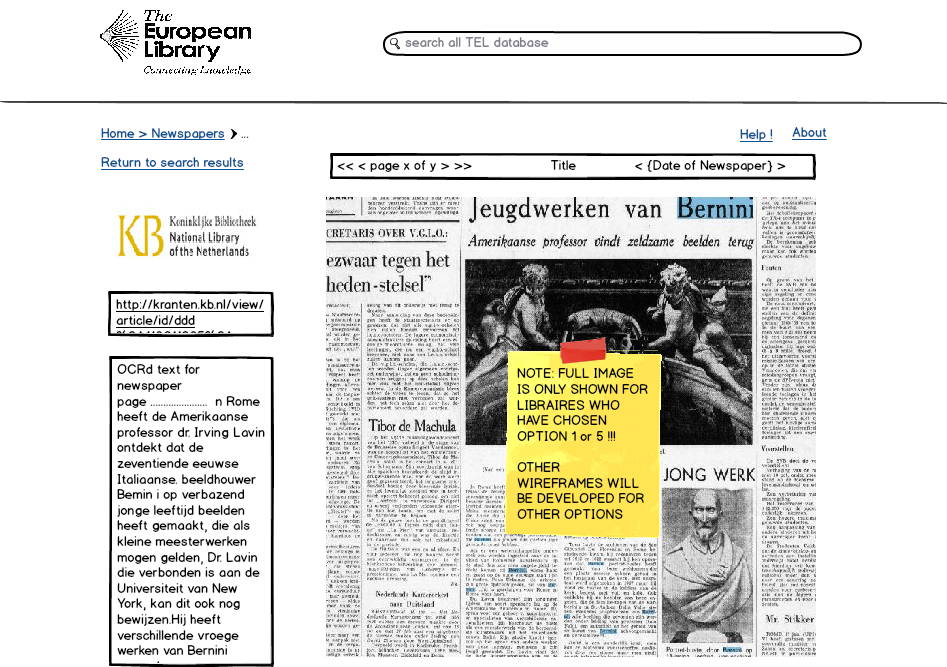news_paper: (32, 2, 893, 667)
